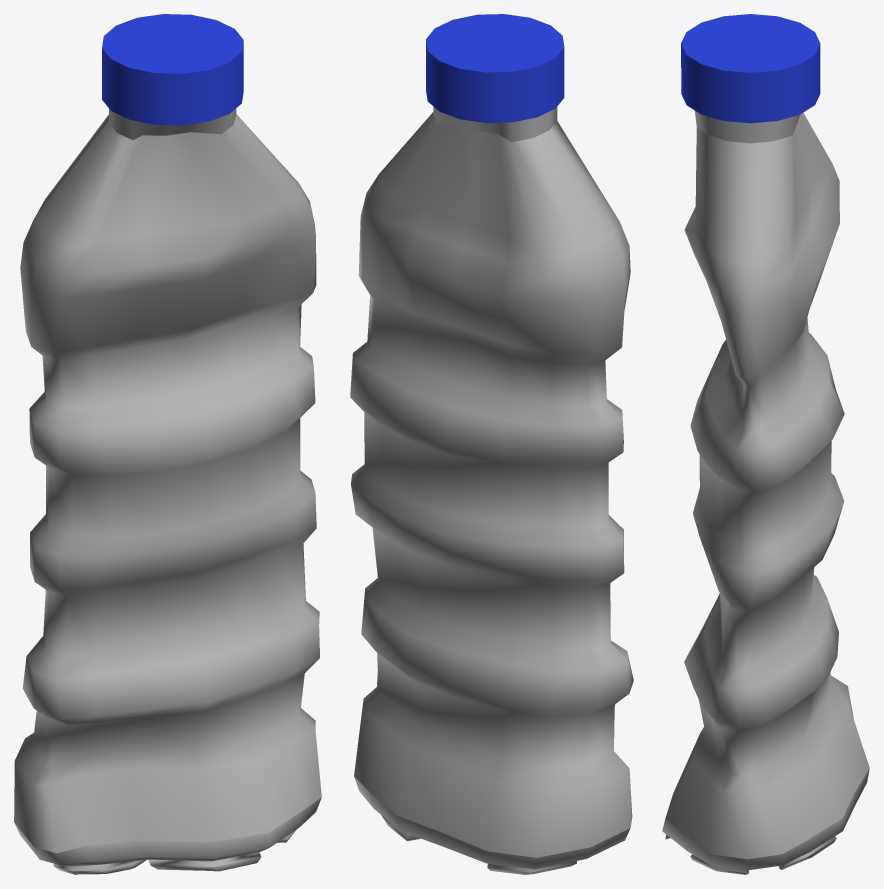
The model's file is BottleCrushed.fbx.
3 views of the same model, side by side, from view 1: azimuth 30°, elevation 25°; view 2: azimuth 150°, elevation 25°; view 3: azimuth 270°, elevation 25° (orthographic). The views are drawn at different scales.
Parts seen in each view (by area): view 1: Cylinder.001; view 2: Cylinder.001; view 3: Cylinder.001.
Part boxes in pixels (x1,y1,x2,y2): Cylinder.001: (14, 14, 321, 874); Cylinder.001: (350, 14, 633, 874); Cylinder.001: (662, 14, 869, 874).
Size of the model in its own units: 118 by 320 by 77.39.
